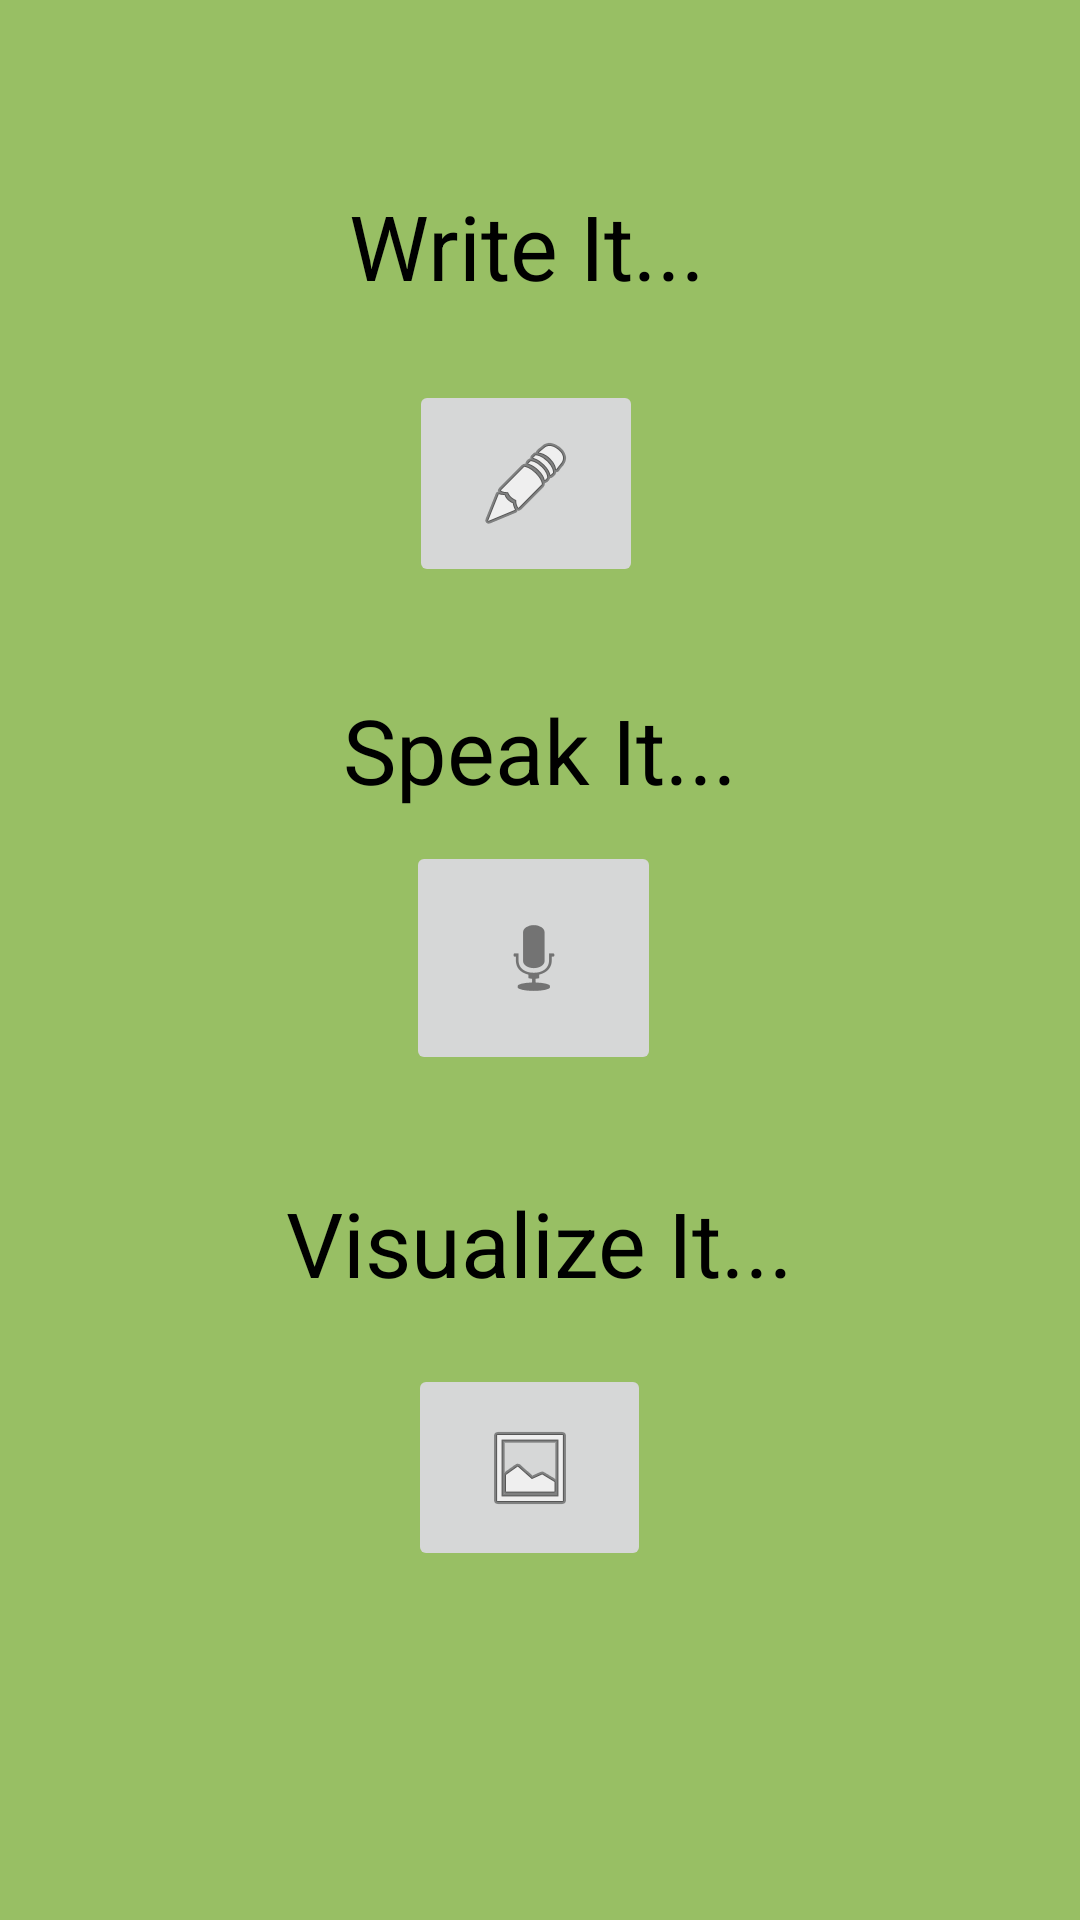

Where to tap for icons on this 1080px×1920px app screen, as (x=x, y=y):
edit: (x=526, y=483)
gallery: (x=529, y=1467)
